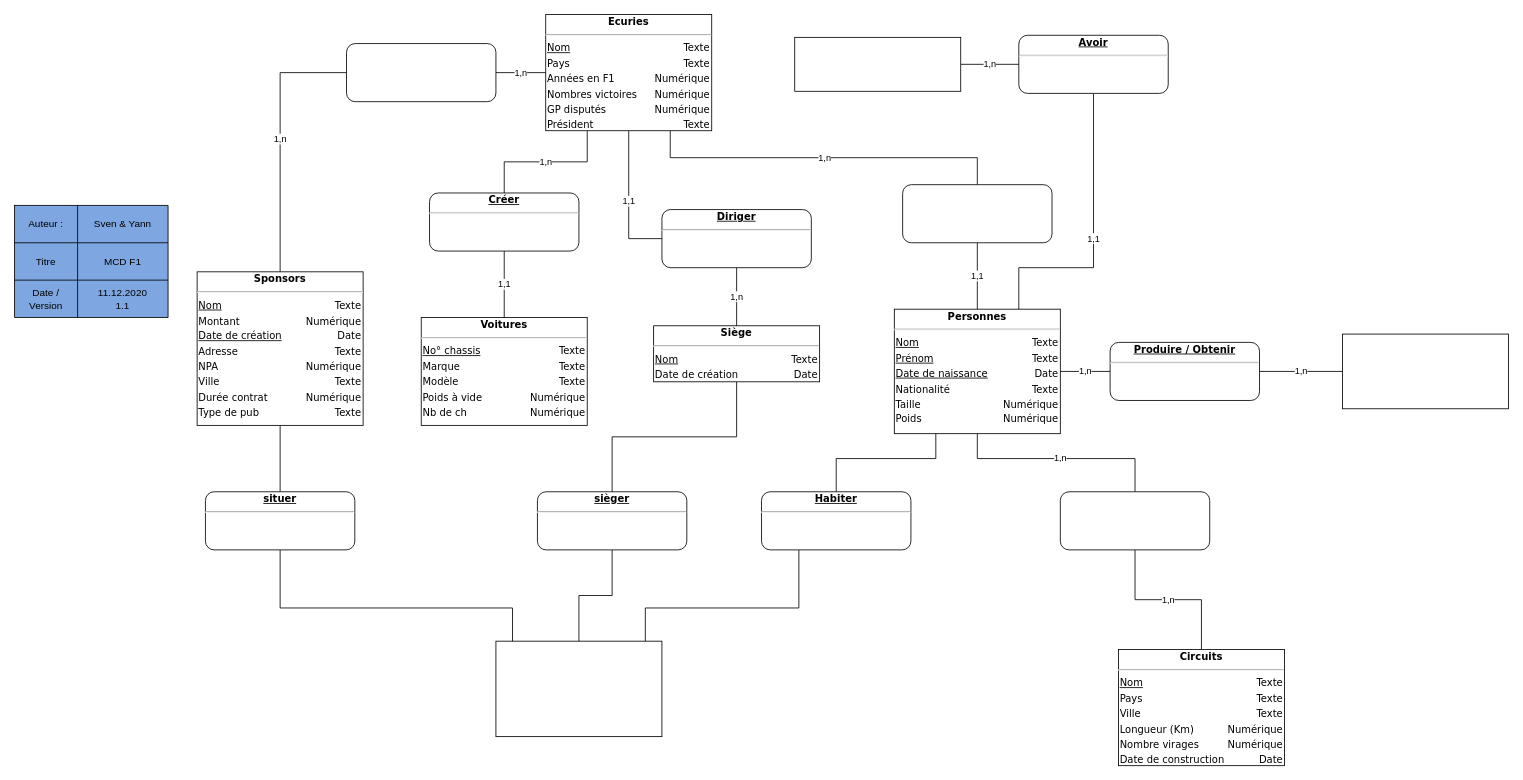
The diagram is 1523 pixels wide and 780 high, and some of its shapes have lost their labels. Here are the shapes that lost their labels. From the top down, the centre of each, then its label:
At point 421,72: "Financer".
At point 877,64: "Rôles Nom Texte".
At point 977,213: "Représenter".
At point 1425,371: "Résultats Position Numérique Temps (h) Numérique Points Numérique".
At point 1134,520: "Courir".
At point 578,688: "Adresses Rue Texte NPA Texte Ville Texte Complément adresse Texte".
